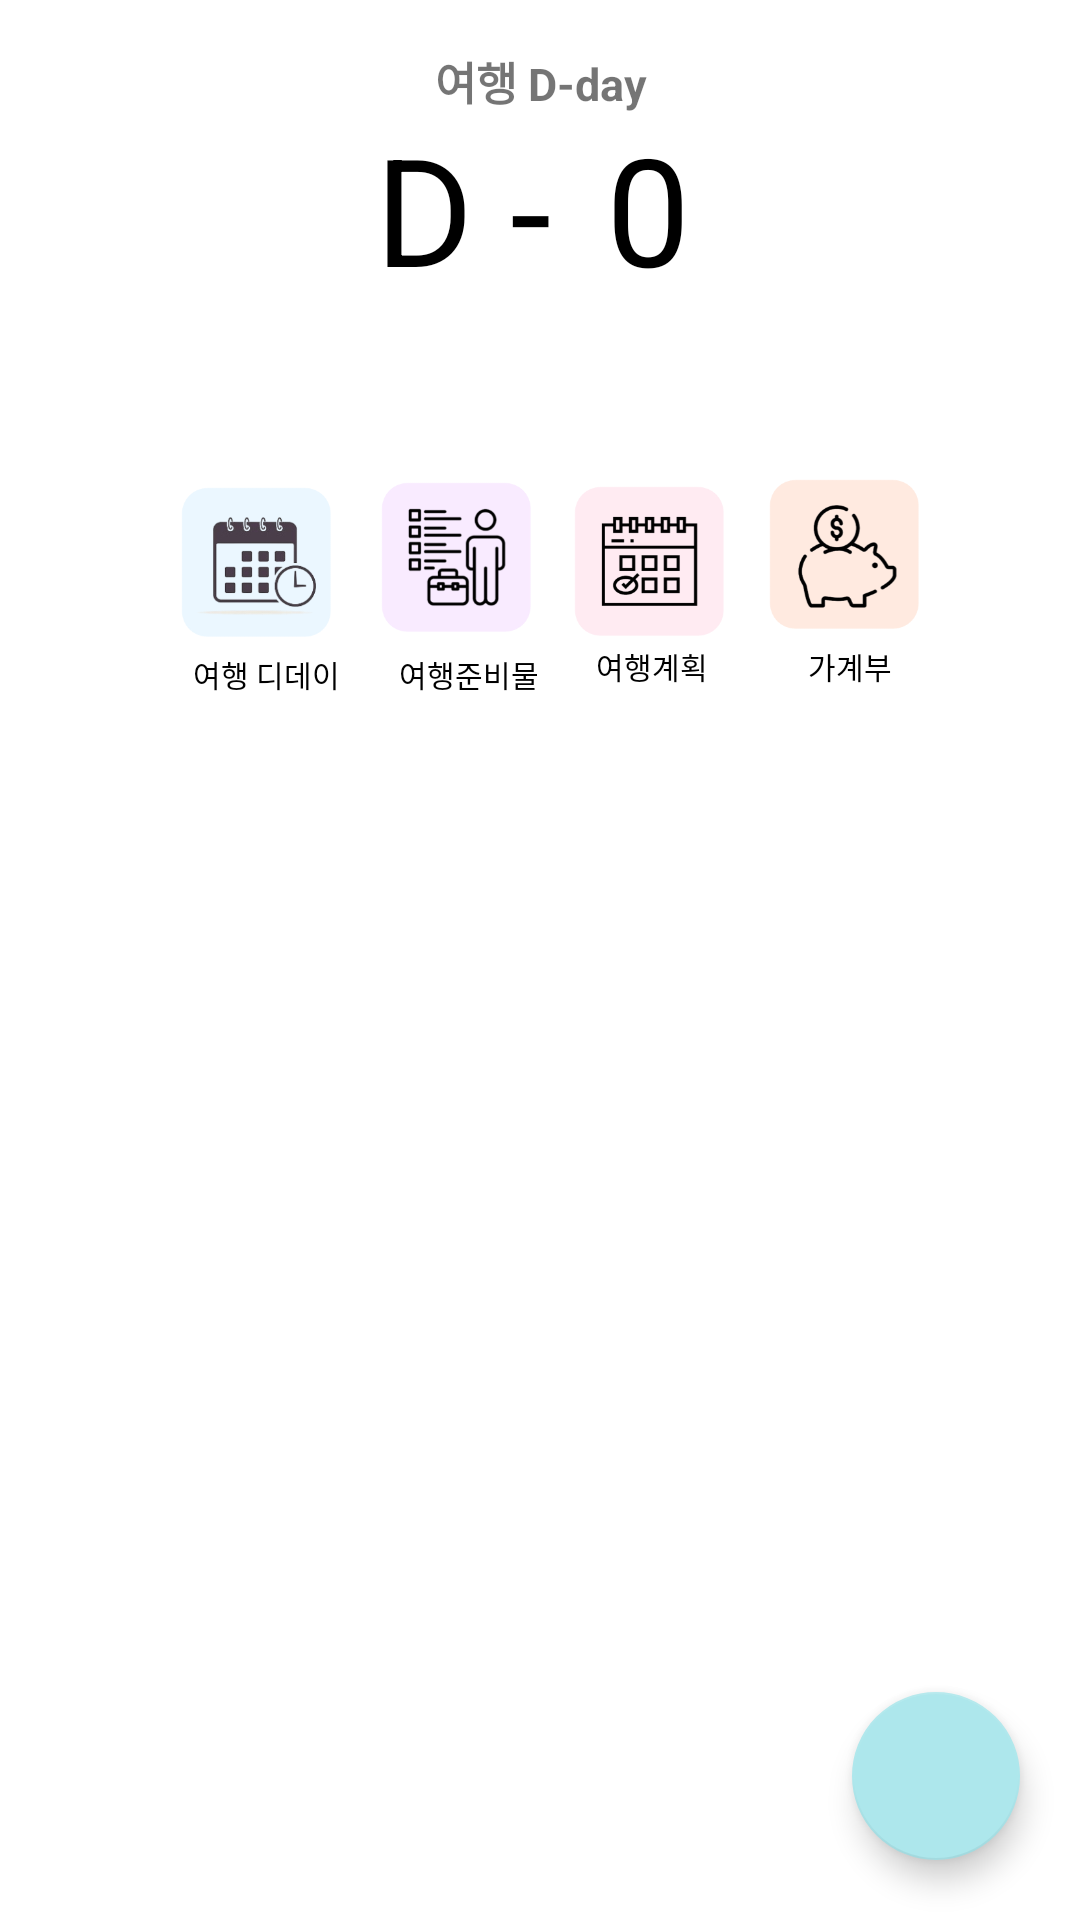

Screen size 1080px x 1920px. Icon name, then its center in pixels as (x,y):
calender: (256,562)
